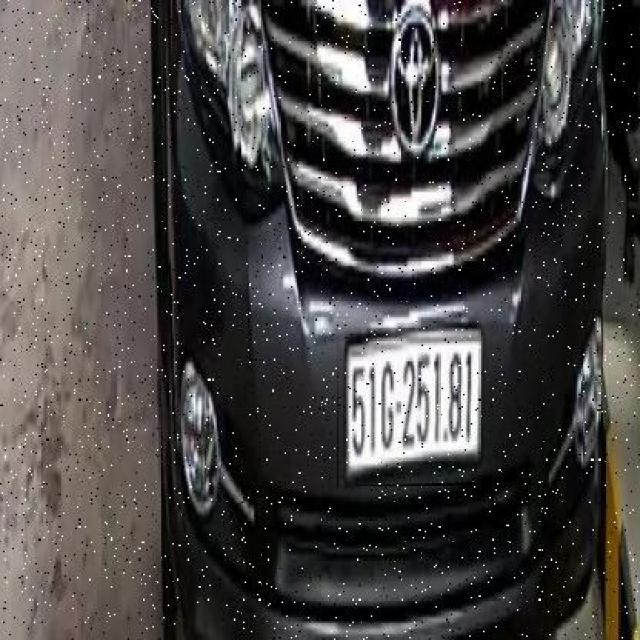number_plate: (337, 328, 492, 486)
